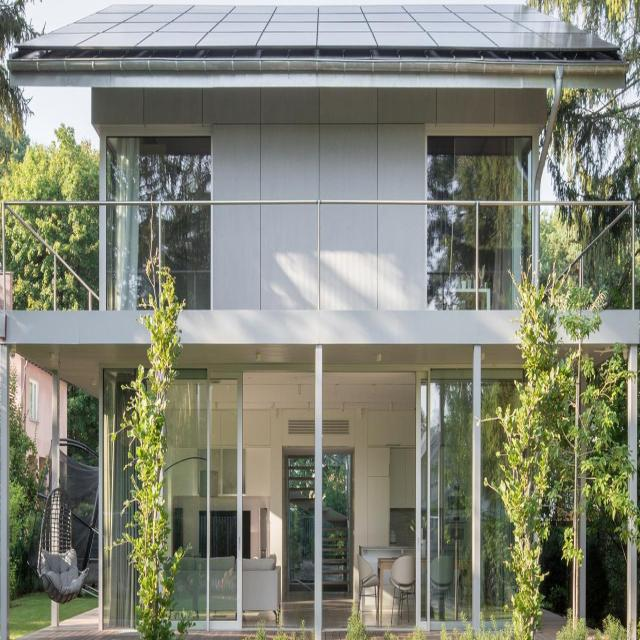door: (416, 368, 525, 625), (169, 371, 243, 635)
railing: (2, 199, 637, 312)
window: (107, 132, 211, 202), (427, 135, 537, 198)
